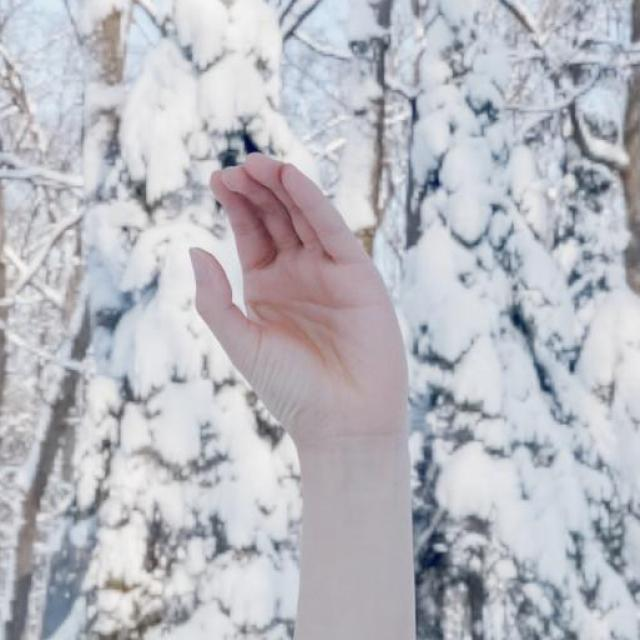C: (184, 150, 415, 454)
